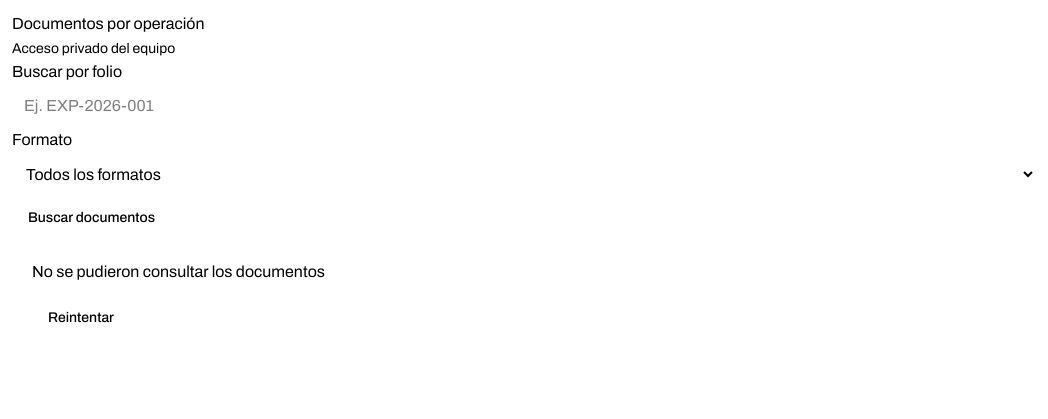
Scenario: failed document lookup remains an error with retry, never a false empty state
The image size is (1048, 419).
Expected: the message "No se pudieron consultar los documentos" is shown, [32,263,325,280]
Click the button "Reintentar".
click(81, 318)  # box [32,296,130,340]
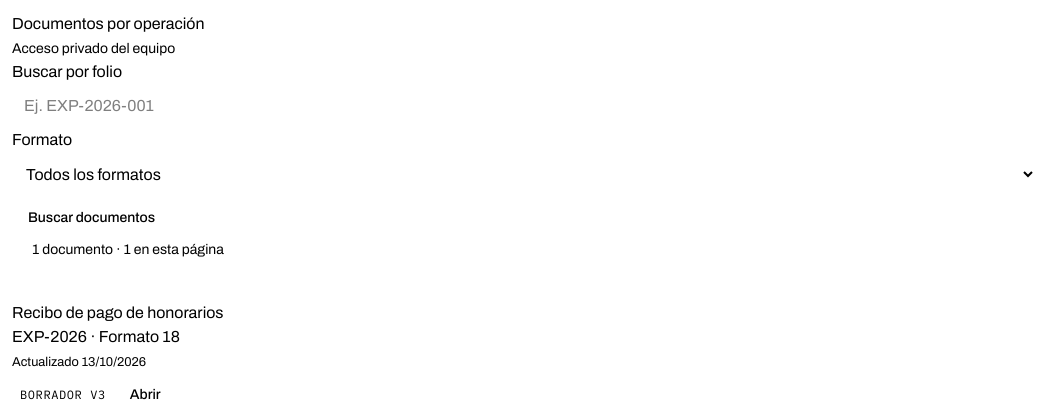
Result: the link "Abrir" is shown at [130,387,161,402]
